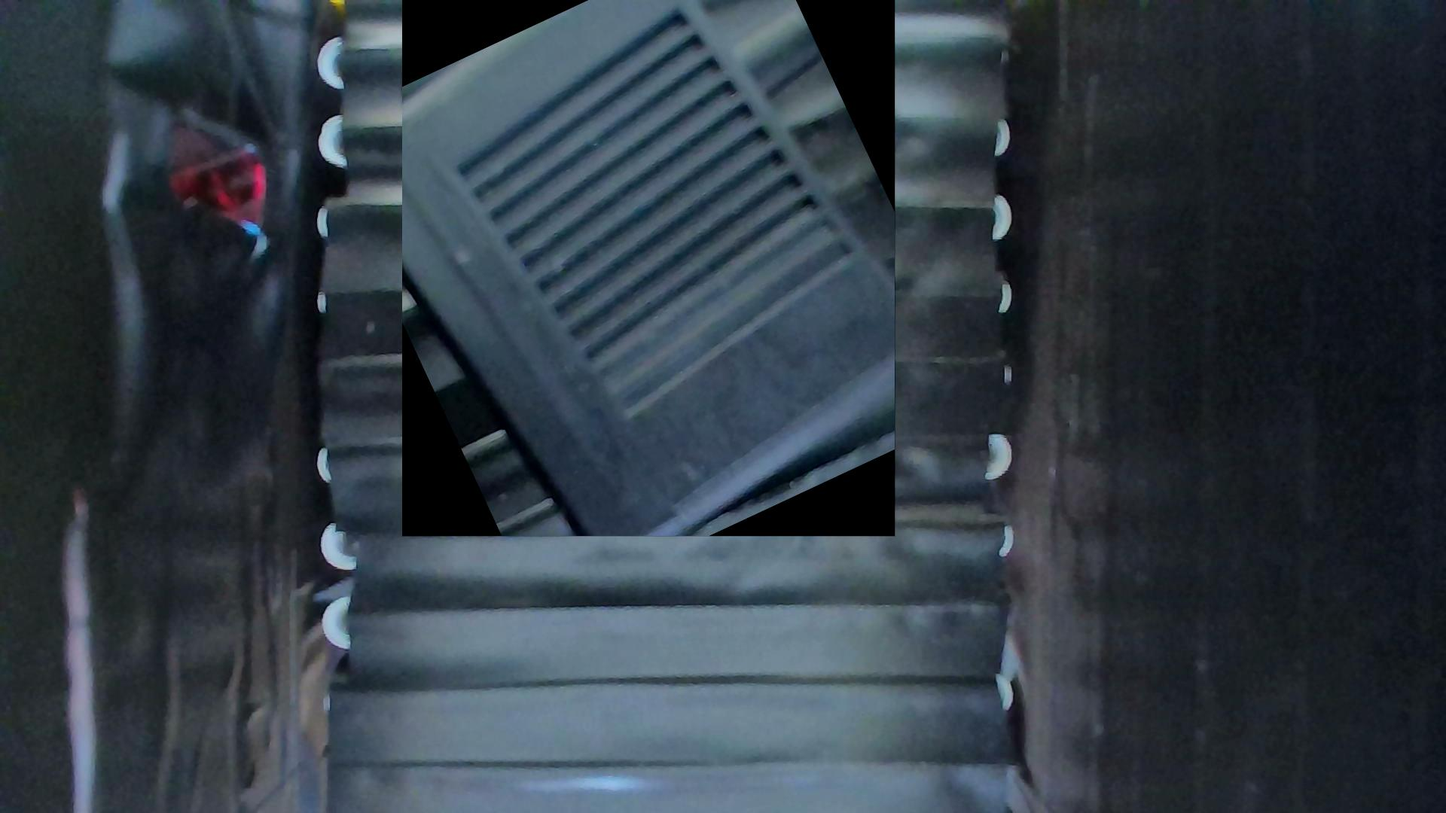motor: (403, 0, 896, 537)
